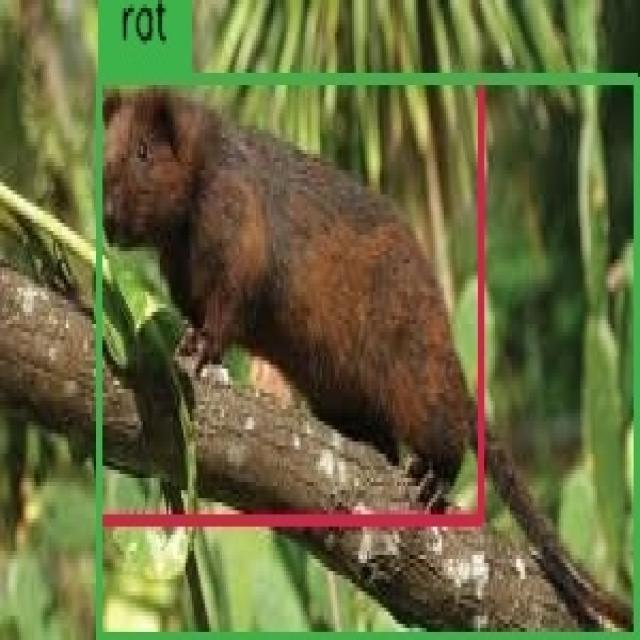rat: (98, 77, 638, 636), (99, 77, 481, 522)
